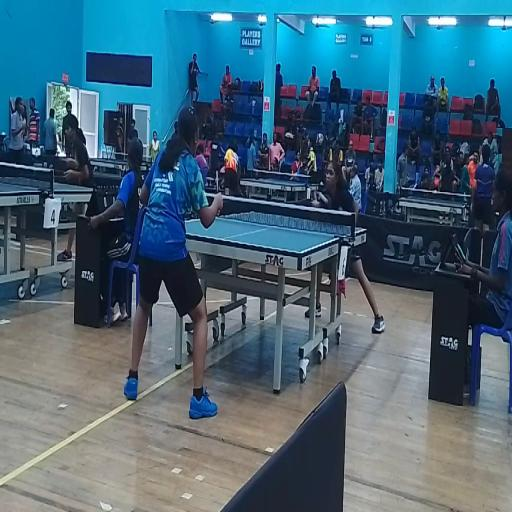ball: (312, 201, 318, 207)
